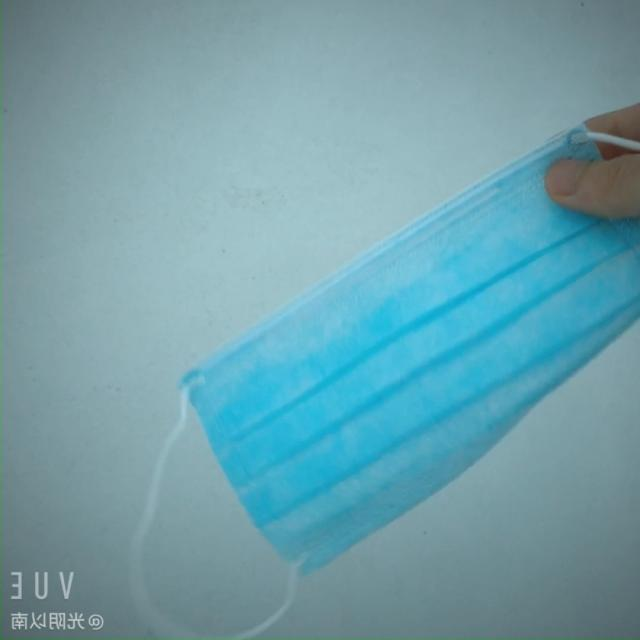face mask: (190, 81, 630, 570)
